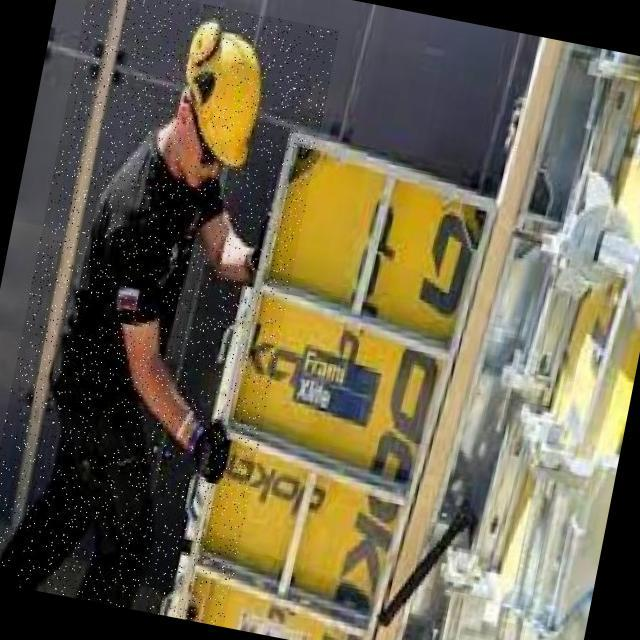Gloves: (188, 404, 243, 496)
Helmet: (165, 16, 279, 179)
Person: (0, 3, 300, 621)
no-vest: (42, 124, 231, 430)
